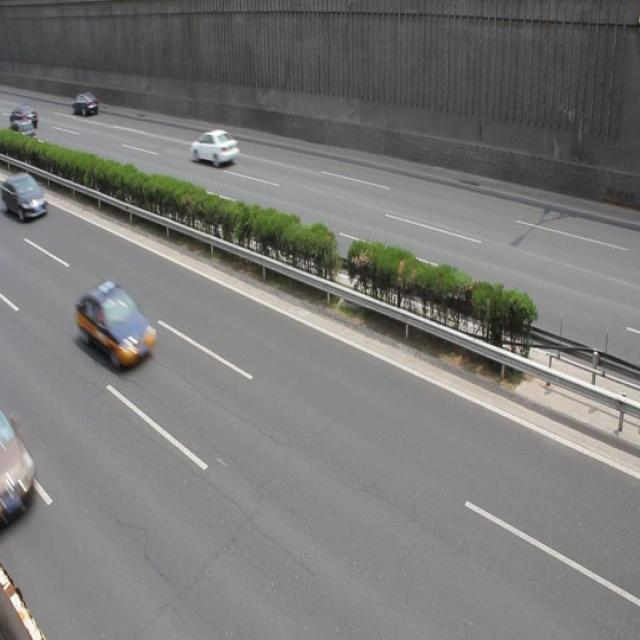car: (76, 280, 157, 368), (1, 170, 49, 222), (189, 128, 238, 166), (74, 92, 98, 117)
